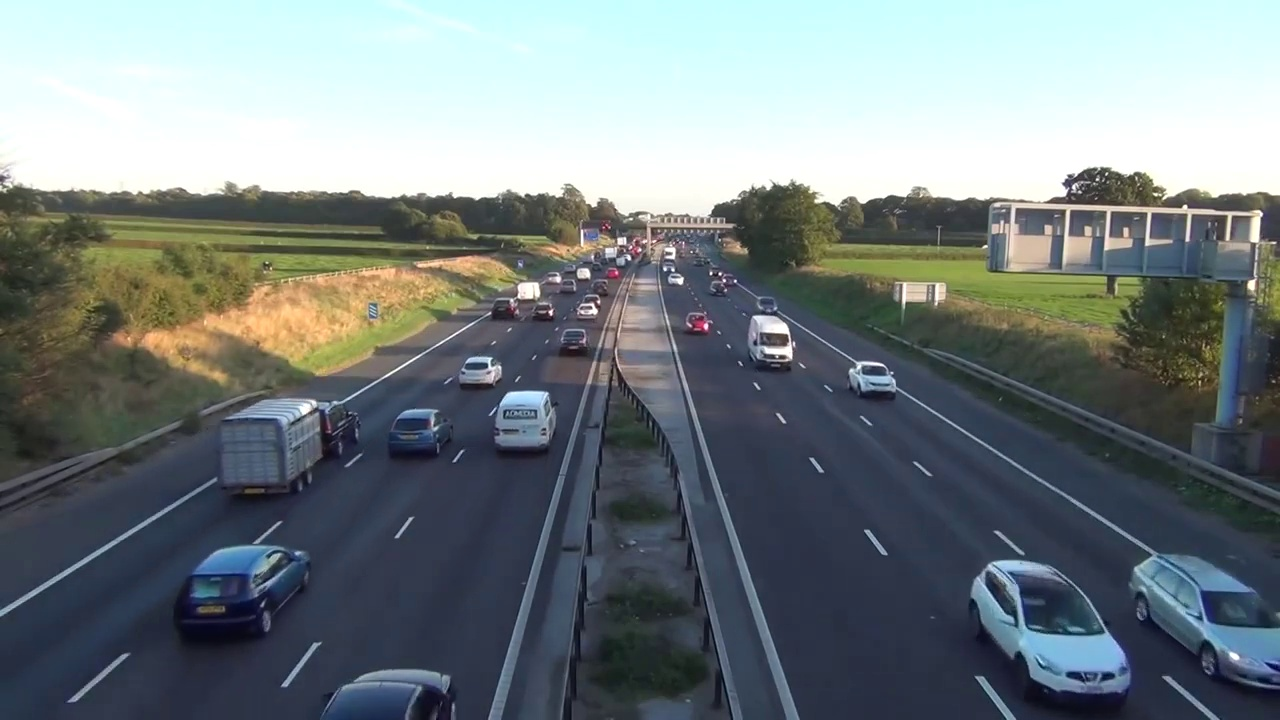bus: (966, 559, 1133, 709), (1128, 553, 1280, 693), (172, 544, 314, 642), (316, 667, 459, 720), (388, 408, 454, 459), (311, 399, 362, 460), (846, 360, 897, 400), (458, 355, 504, 388), (560, 328, 592, 356), (492, 297, 521, 320), (684, 312, 710, 335), (756, 296, 779, 316), (533, 302, 556, 321), (576, 303, 599, 319), (583, 294, 601, 311), (592, 279, 609, 296), (710, 281, 728, 297), (667, 273, 686, 287), (560, 279, 577, 294), (721, 273, 738, 287), (576, 267, 592, 281), (708, 265, 723, 278), (546, 272, 562, 284), (662, 262, 676, 274), (606, 267, 619, 279)
car: (493, 388, 561, 457), (747, 314, 796, 372), (517, 281, 542, 301)
